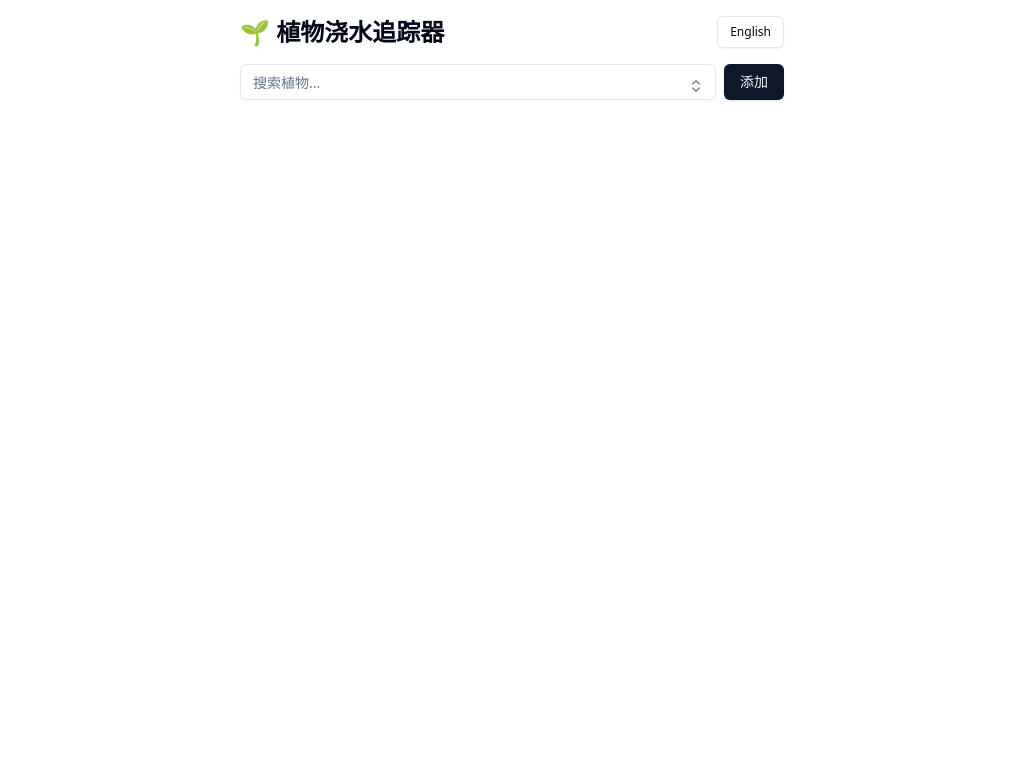
Test case: PlantTracker › Autocomplete functionality › closes dropdown when clicking outside
Type "monstera" into the field with placeholder "搜索植物..." at (478, 82), box left=240, top=64, right=716, bottom=100
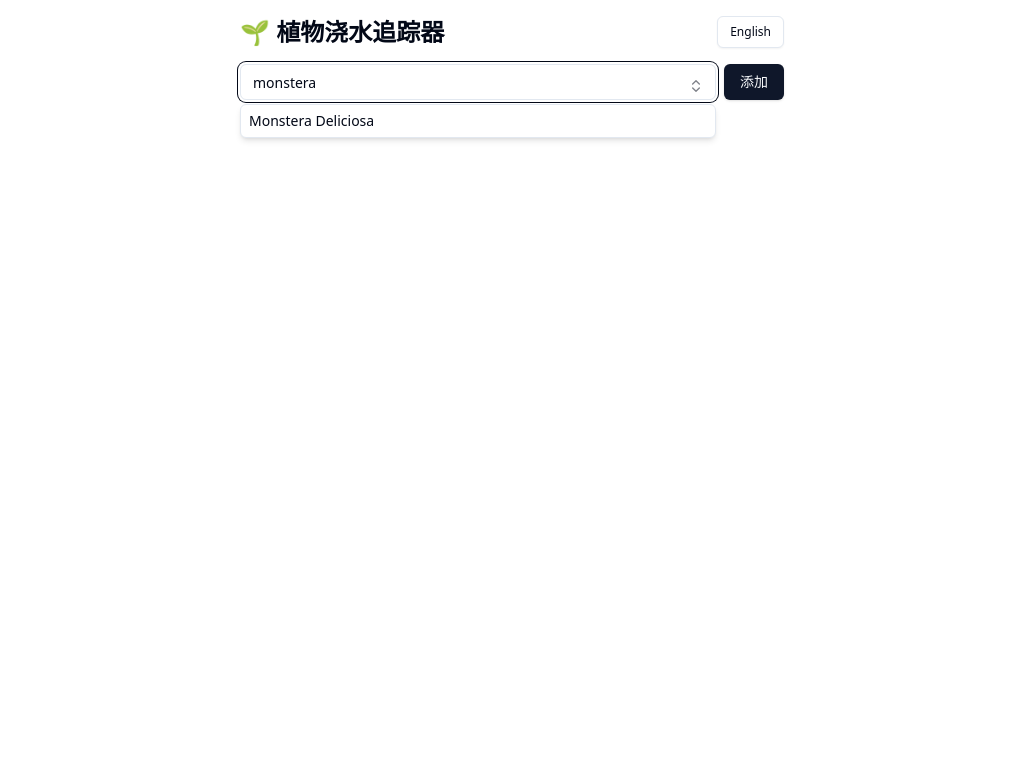
Note: Click outside
Click the element showing "🌱 植物浇水追踪器 English Monstera Deliciosa 添加" at (512, 384), box left=0, top=0, right=1023, bottom=767
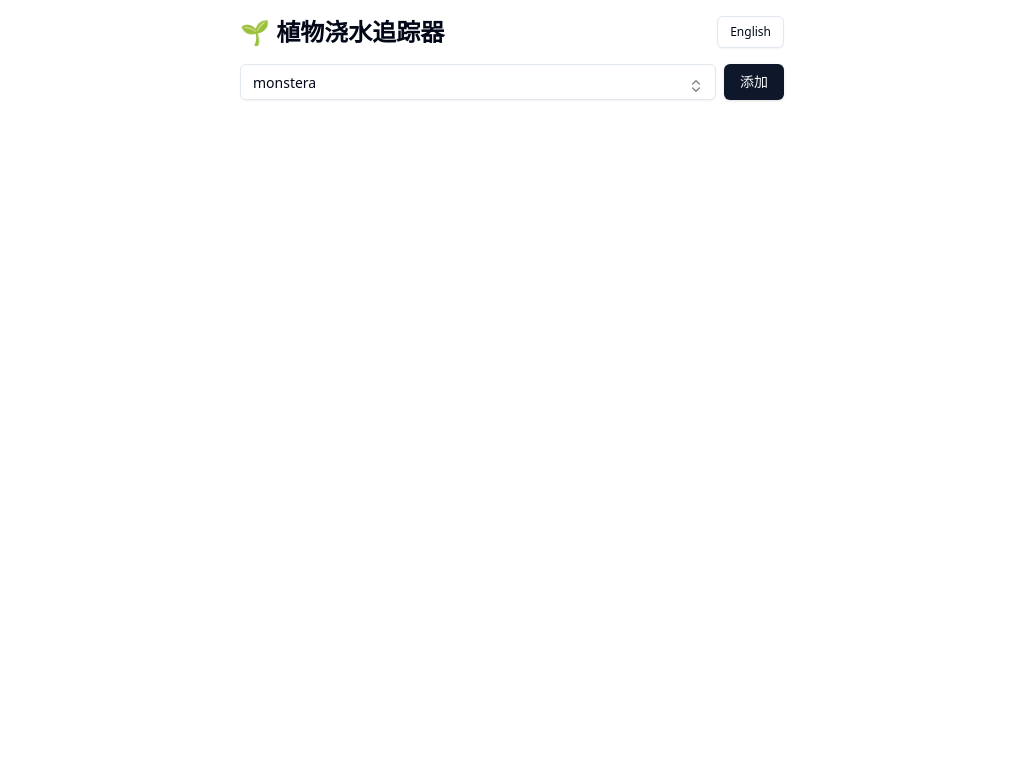
Now the list is gone
